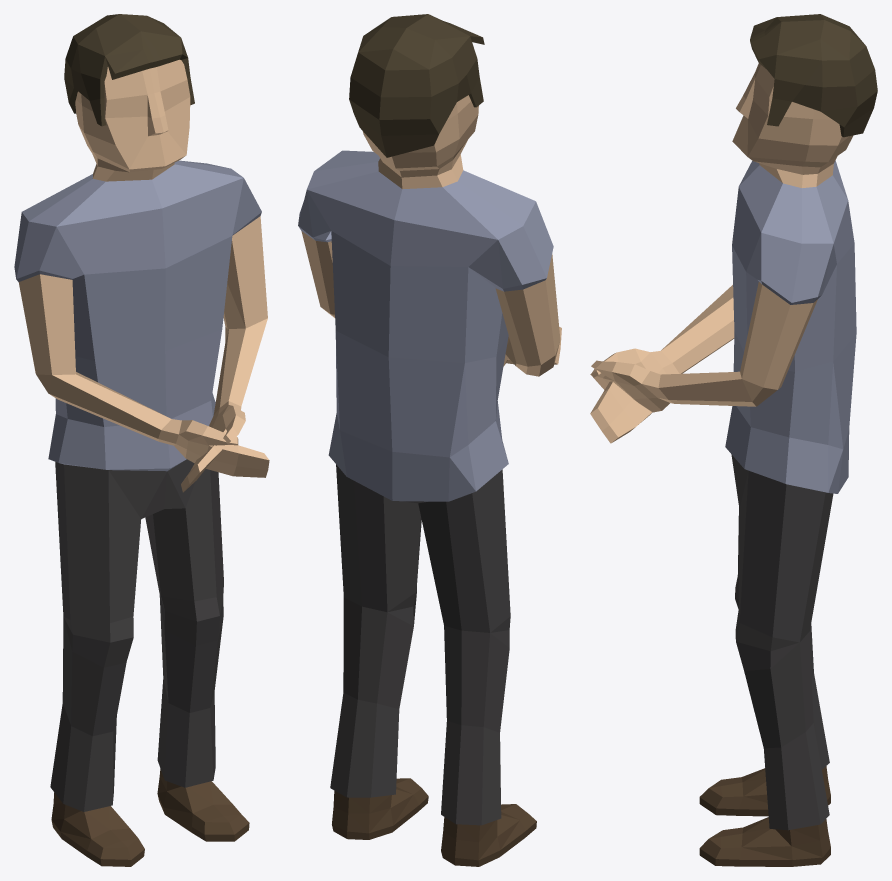
Rendered from Male_Crowd_HandsClasped.glb.
The picture shows the model from 3 angles, left to right: view 1: azimuth 30°, elevation 25°; view 2: azimuth 150°, elevation 25°; view 3: azimuth 270°, elevation 25°; orthographic projection. The views are drawn at different scales.
Visible parts, largest first — view 1: Male_Crowd_HandsClasped; view 2: Male_Crowd_HandsClasped; view 3: Male_Crowd_HandsClasped.
Boxes of the visible parts, <box> form: Male_Crowd_HandsClasped: <box>14,14,269,866</box>; Male_Crowd_HandsClasped: <box>298,14,561,866</box>; Male_Crowd_HandsClasped: <box>590,14,877,866</box>.
Bounding box in the file's own units: 0.5634 × 1.79 × 0.5777.
